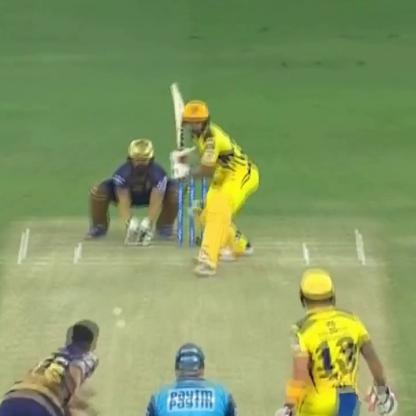ball: (110, 316, 127, 329), (108, 306, 126, 315)
bat: (166, 80, 189, 156)
pitch: (7, 220, 400, 416)
